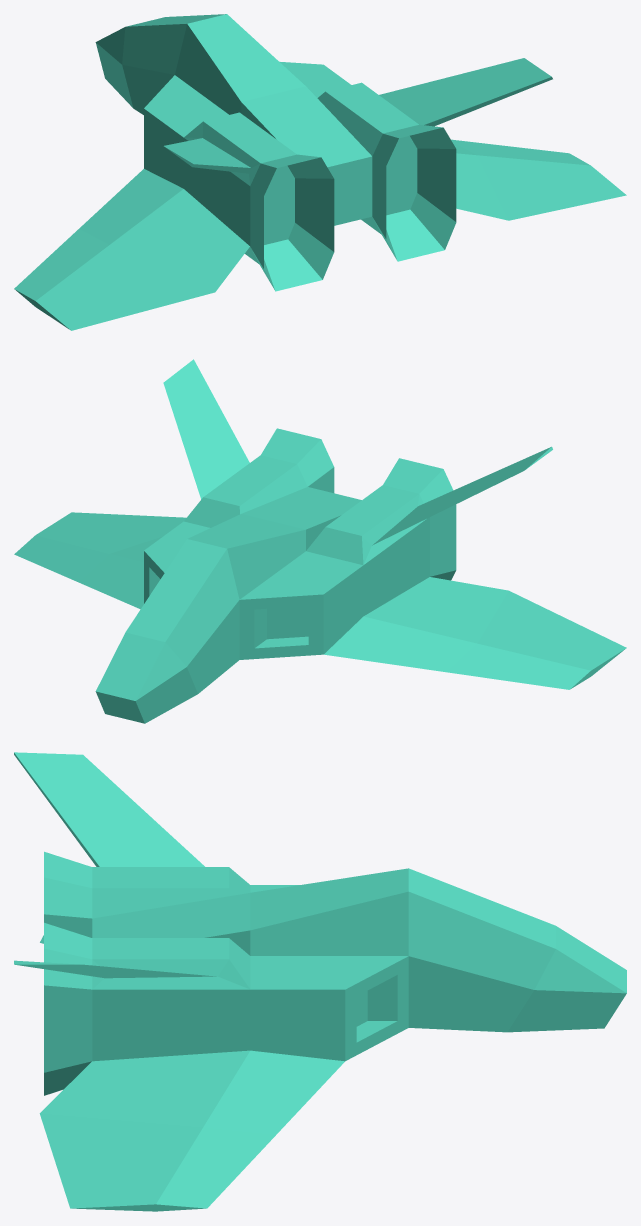
The model's file is space_ship.obj.
The picture shows the model from 3 angles, top to bottom: view 1: azimuth 30°, elevation 25°; view 2: azimuth 150°, elevation 25°; view 3: azimuth 270°, elevation 25°; orthographic projection. The views are drawn at different scales.
Visible parts, largest first — view 1: ship; view 2: ship; view 3: ship.
Boxes of the visible parts, box(x1,y1,x2,y2) form: ship: box(14, 14, 626, 330); ship: box(14, 359, 626, 723); ship: box(14, 752, 626, 1211).
Bounding box in the file's own units: 4.83 × 1.35 × 3.87.
